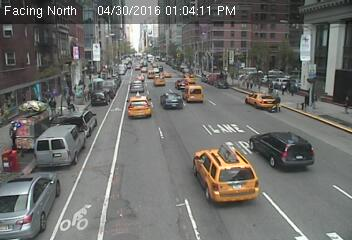neg: (169, 77, 191, 106), (90, 90, 109, 115), (127, 82, 143, 103)
pos: (43, 95, 59, 116), (340, 93, 351, 114)
